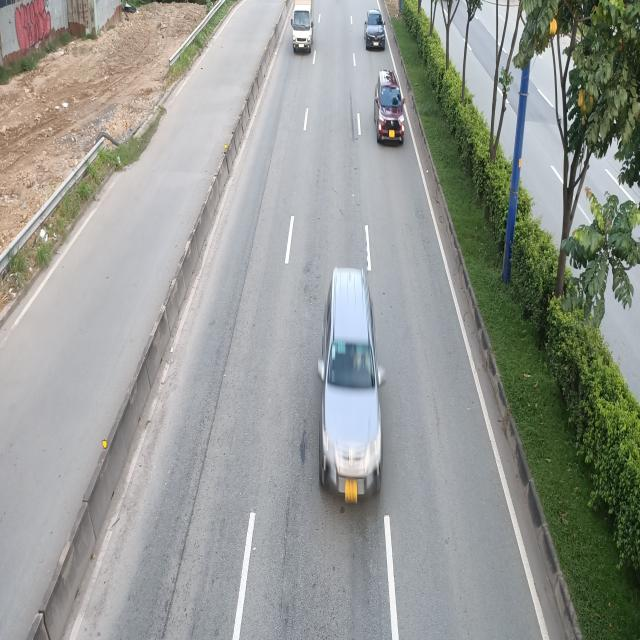car: (319, 268, 386, 498), (372, 72, 403, 148), (365, 7, 387, 50)
truck: (290, 0, 314, 53)
